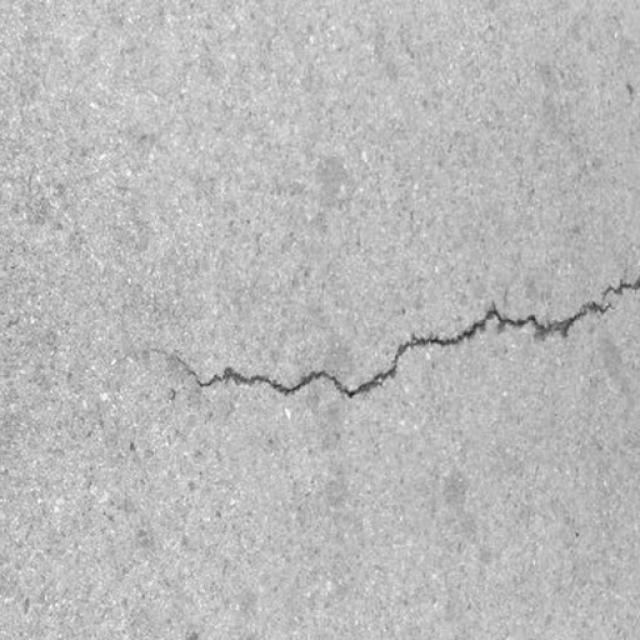SurfaceCrack: (1, 240, 640, 434)
